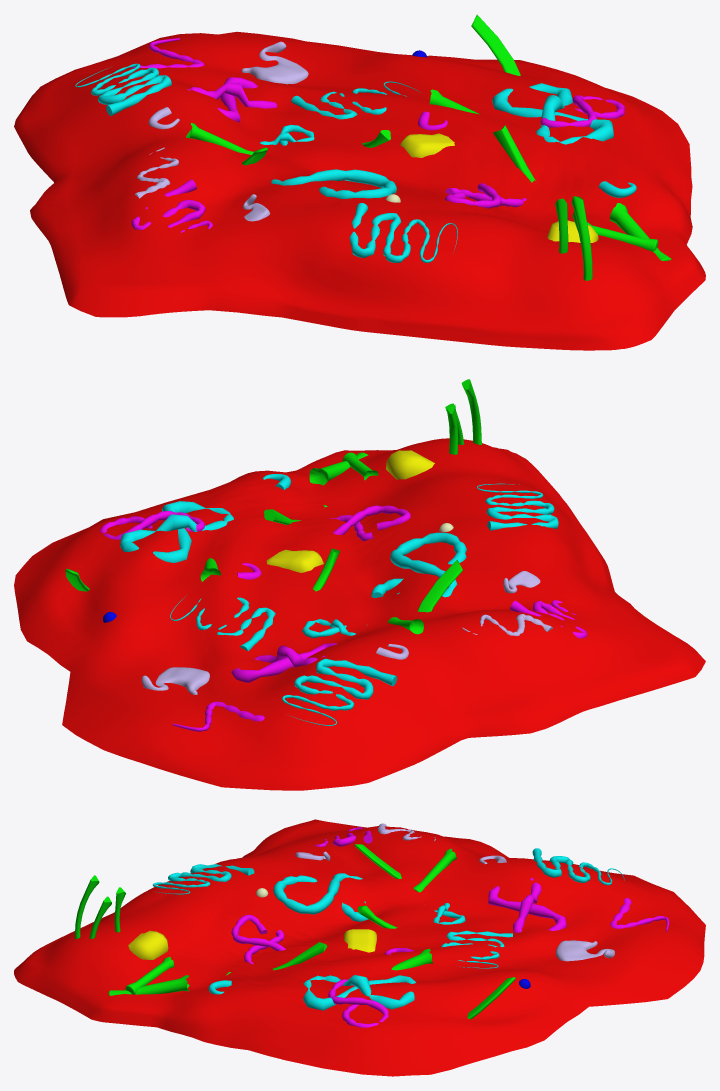
File: Bouille.fbx
The picture shows the model from 3 angles, top to bottom: view 1: azimuth 30°, elevation 25°; view 2: azimuth 150°, elevation 25°; view 3: azimuth 270°, elevation 25°; orthographic projection. The views are drawn at different scales.
Parts seen in each view (by area): view 1: Bouille; view 2: Bouille; view 3: Bouille.
Part boxes in pixels (x1,y1,x2,y2): Bouille: (14,14,705,350); Bouille: (14,379,705,790); Bouille: (14,819,705,1076).
Size of the model in its own units: 2.59 by 0.542 by 2.97.
